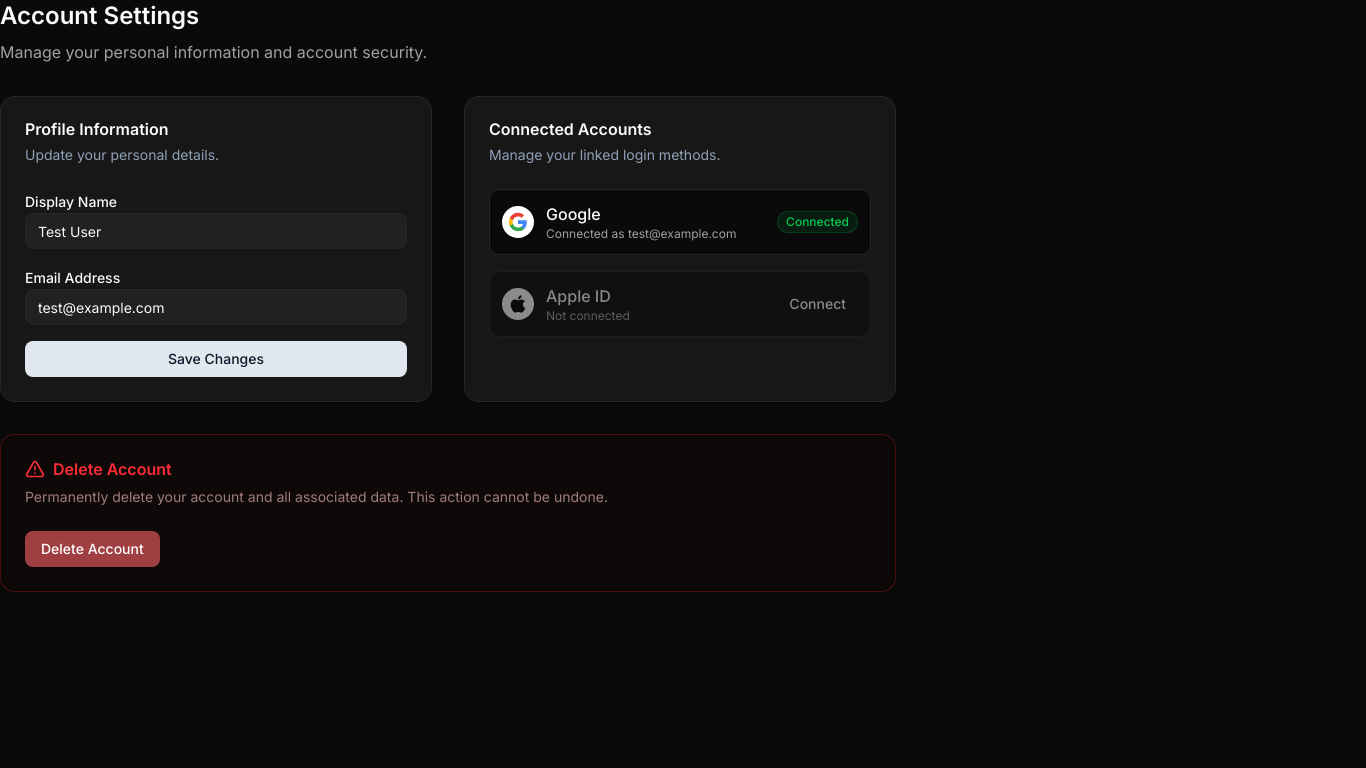
it: AccountSettingsPage › Delete Account Interactions › should open delete confirmation dialog
Click the button "Delete Account" at (92, 549), box left=25, top=531, right=160, bottom=567
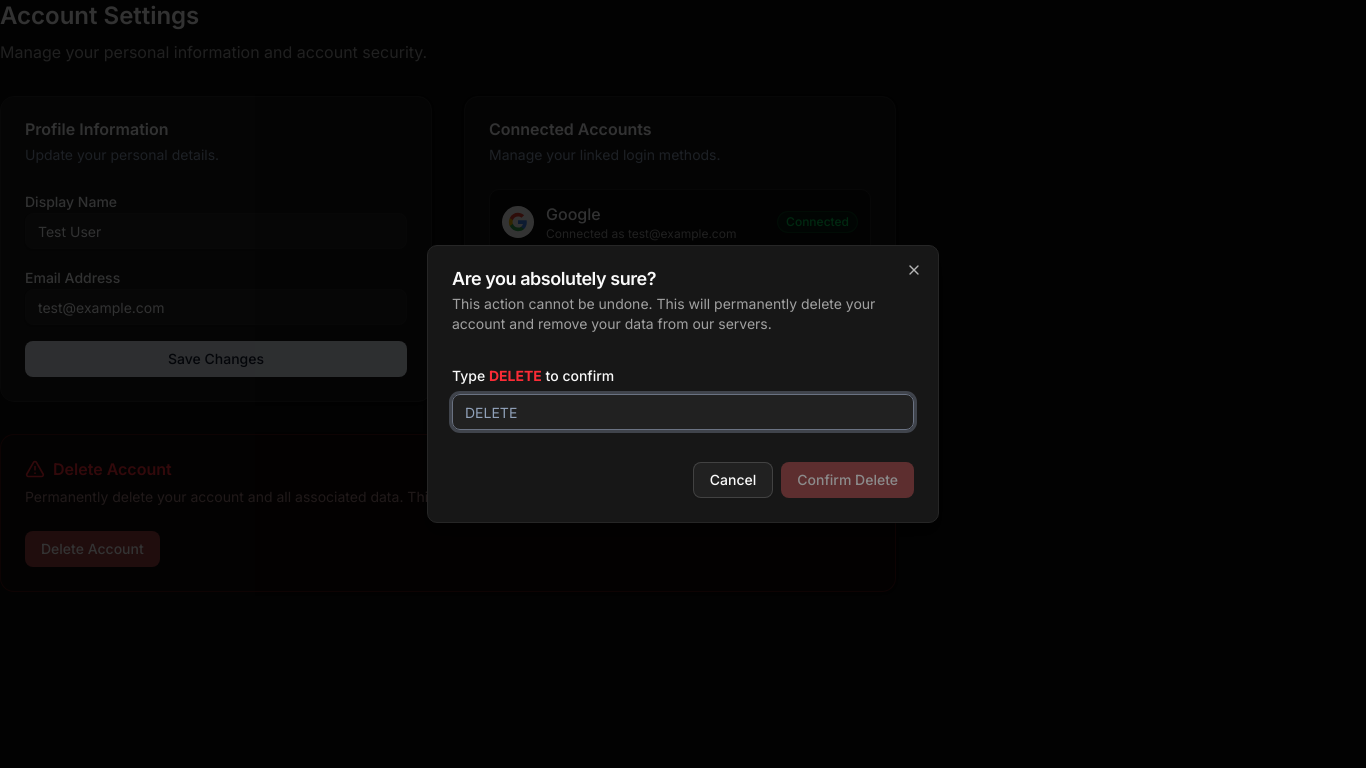
Expected: the dialog is shown, left=427, top=245, right=939, bottom=523
Expected: the heading "Are you absolutely sure?" is shown, left=452, top=268, right=656, bottom=289
